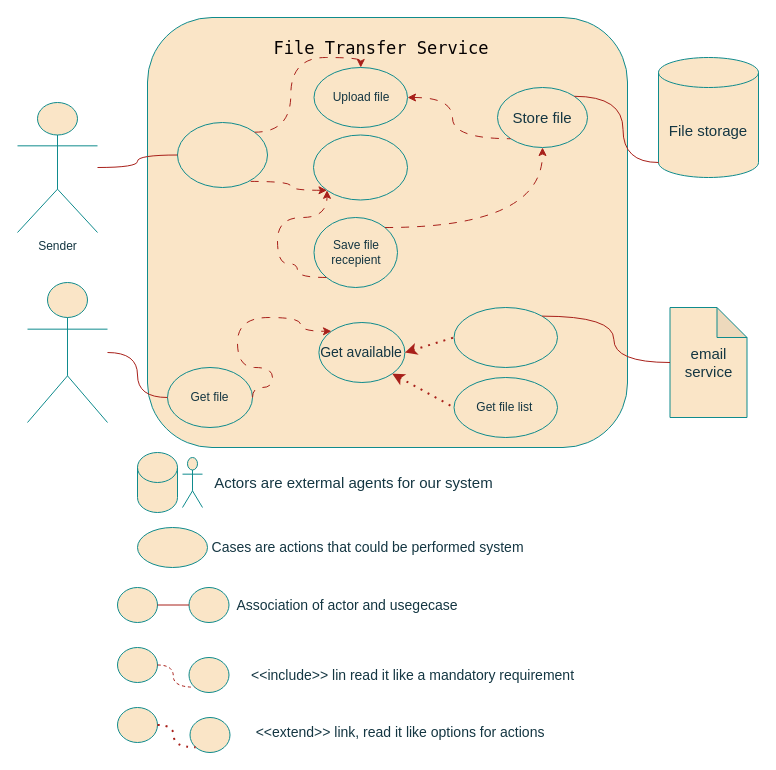
This 776x770 diagram has some shape labels left out. Each missing label, with the centre of its shape:
"actions" goes at (172,547).
"Recepient" goes at (67,352).
"Send email" goes at (505,337).
"Send file" goes at (222,155).
"Specify recepient" goes at (360,167).
